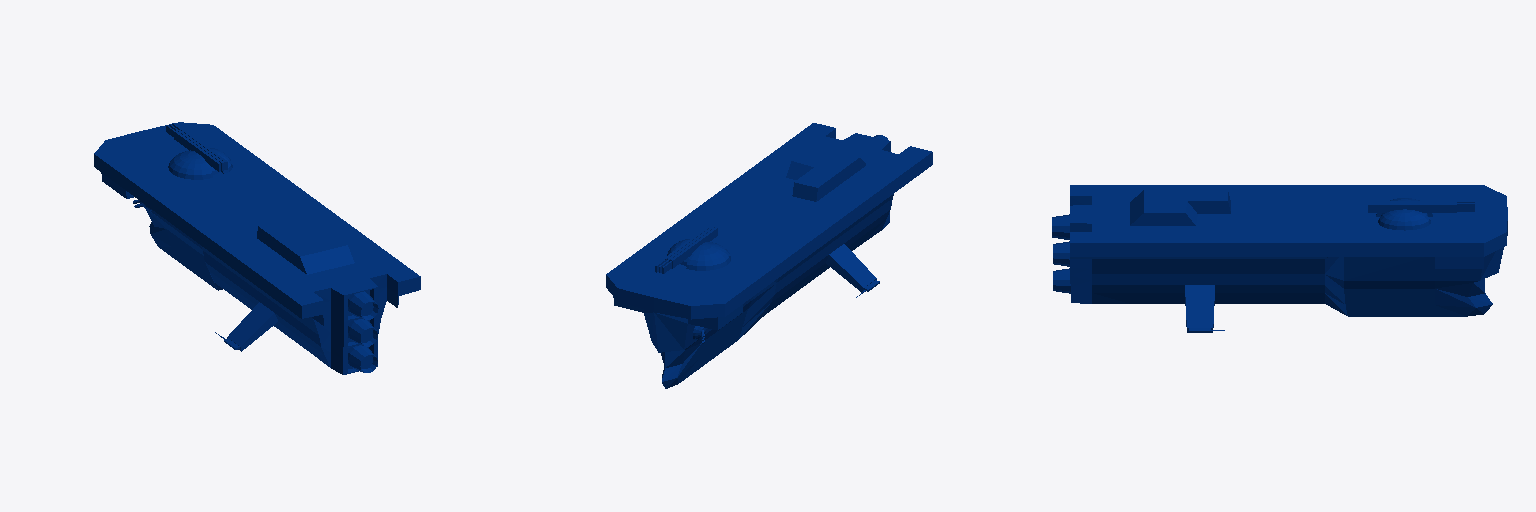
File: heavy_cruiser.obj
The picture shows the model from 3 angles: view 1: azimuth 30°, elevation 25°; view 2: azimuth 150°, elevation 25°; view 3: azimuth 270°, elevation 25°; orthographic projection.
Parts seen in each view (by area): view 1: Box04; view 2: Box04; view 3: Box04.
Part boxes in pixels (x1,y1,x2,y2): Box04: (94, 122, 420, 374); Box04: (606, 123, 932, 388); Box04: (1052, 185, 1507, 332).
Bounding box in the file's own units: 86.21 × 72.67 × 256.